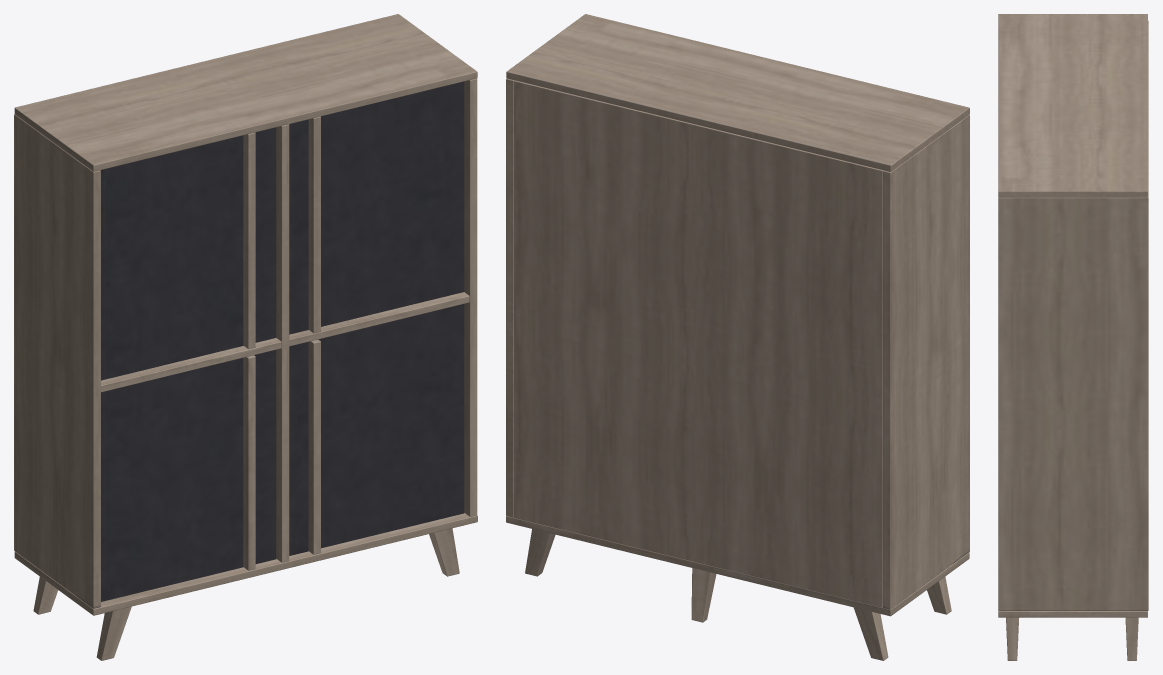
3 renders of one model, left to right at view 1: azimuth 30°, elevation 25°; view 2: azimuth 150°, elevation 25°; view 3: azimuth 270°, elevation 25°, orthographic. The views are drawn at different scales.
Visible parts, largest first — view 1: RootNode; view 2: RootNode; view 3: RootNode.
Part boxes in pixels (x1,y1,x2,y2): RootNode: (14, 14, 477, 660); RootNode: (506, 14, 969, 660); RootNode: (998, 14, 1148, 660).
Size of the model in its own units: 1.11 by 1.39 by 0.3979.
1 material, 1 textured.
